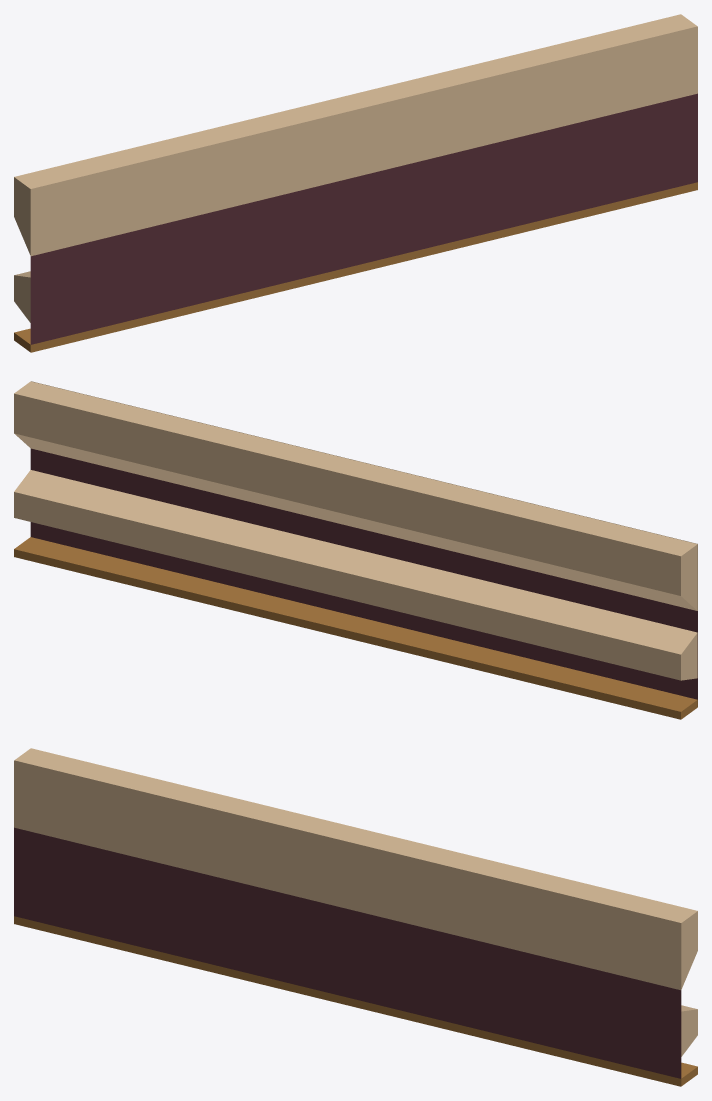
The model's file is SM_Roof_Backside_Empire.fbx.
3 views of the same model, one above another, from view 1: azimuth 30°, elevation 25°; view 2: azimuth 150°, elevation 25°; view 3: azimuth 330°, elevation 25° (orthographic).
Parts seen in each view (by area): view 1: SM_Roof_Backside_Empire; view 2: SM_Roof_Backside_Empire; view 3: SM_Roof_Backside_Empire.
Boxes of the visible parts, bbox=[...] form: SM_Roof_Backside_Empire: bbox=[14, 14, 697, 352]; SM_Roof_Backside_Empire: bbox=[14, 381, 697, 719]; SM_Roof_Backside_Empire: bbox=[14, 748, 697, 1086].
Bounding box in the file's own units: 3 × 0.7024 × 0.1319.
